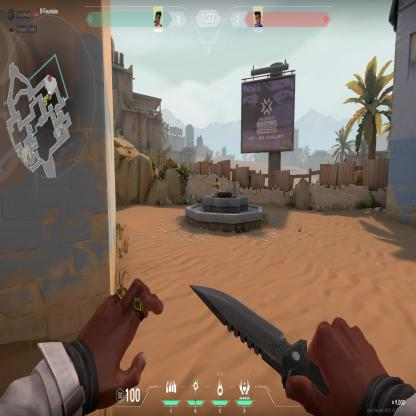enemy: (214, 177, 220, 193)
